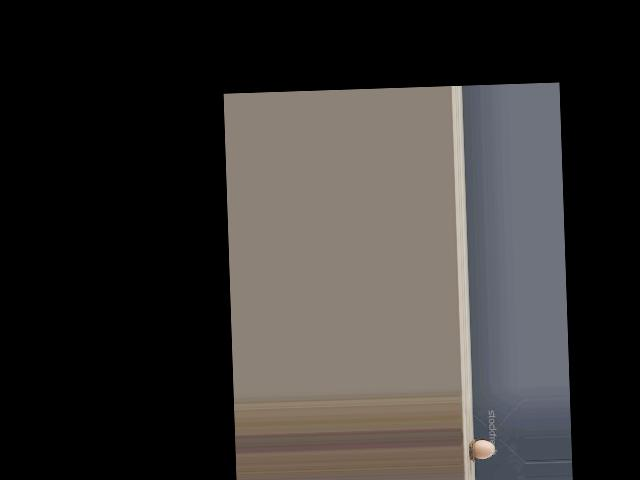egg: (473, 440, 494, 459)
